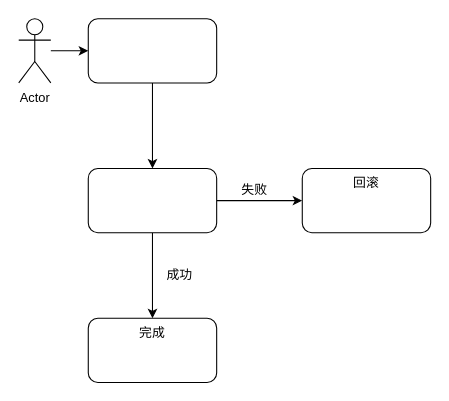
Image size: 449x401. Some labels were removed from this diagram. Here are the shapes that lost their labels. From the top down, the centre of each, then its label:
At point 152,50: "用户反馈".
At point 152,200: "填写反馈信息".
